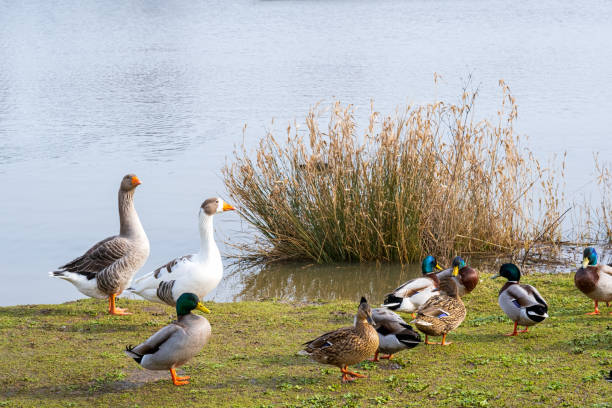goose: (49, 172, 153, 327), (128, 197, 242, 320), (118, 291, 223, 391), (294, 295, 379, 385), (353, 293, 424, 366), (486, 261, 550, 341), (382, 252, 447, 319), (416, 278, 469, 355), (568, 245, 612, 318), (436, 255, 483, 291)
